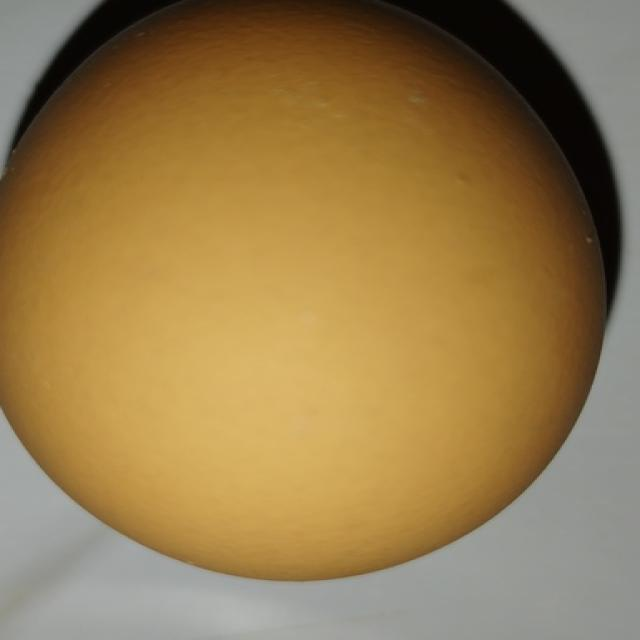fresh: (0, 0, 618, 587)
